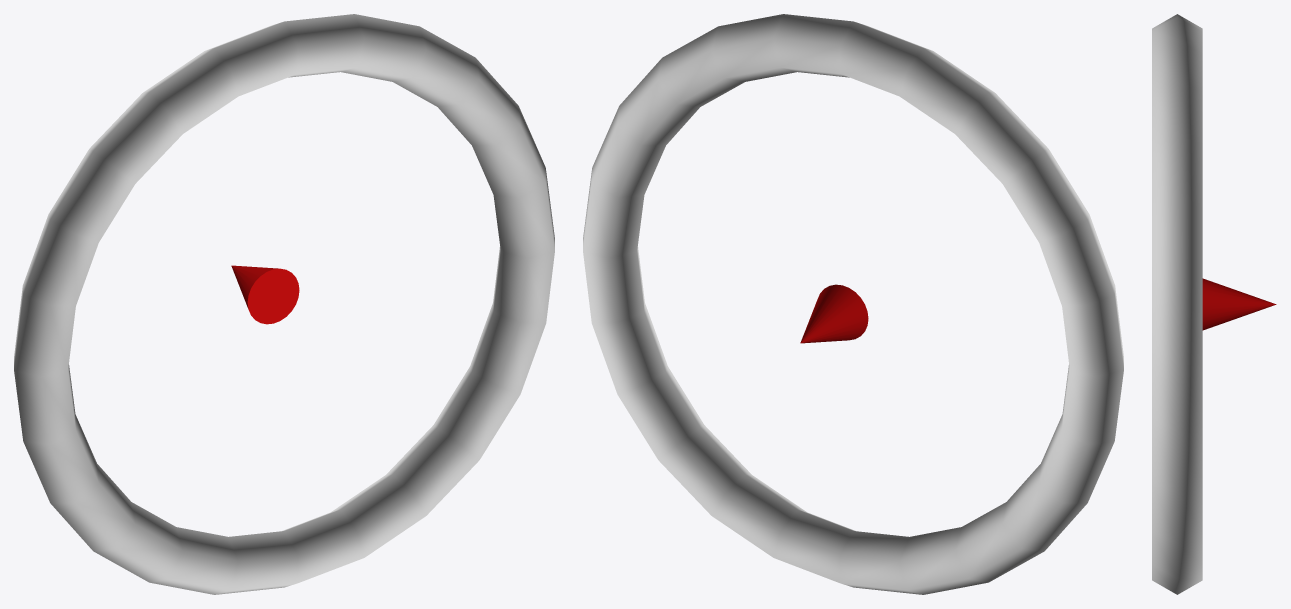
File: AimPoint.fbx
3 renders of one model, left to right at view 1: azimuth 30°, elevation 25°; view 2: azimuth 150°, elevation 25°; view 3: azimuth 270°, elevation 25°, orthographic. The views are drawn at different scales.
Parts seen in each view (by area): view 1: AimPoint_Mesh; view 2: AimPoint_Mesh; view 3: AimPoint_Mesh.
Boxes of the visible parts, x1=… form: AimPoint_Mesh: x1=14, y1=14, x2=554, y2=594; AimPoint_Mesh: x1=583, y1=14, x2=1123, y2=594; AimPoint_Mesh: x1=1152, y1=14, x2=1276, y2=594.
Bounding box in the file's own units: 0.3307 × 0.3307 × 0.0707.
